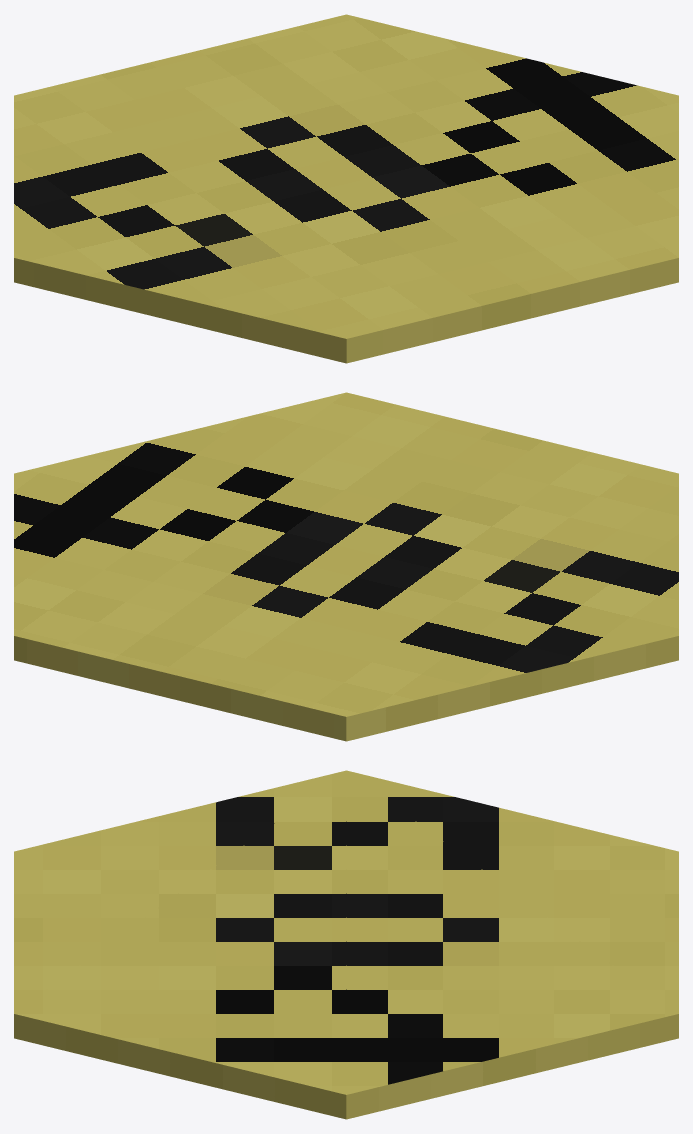
The model's file is 50cent.fbx.
3 renders of one model, top to bottom at view 1: azimuth 30°, elevation 25°; view 2: azimuth 150°, elevation 25°; view 3: azimuth 270°, elevation 25°, orthographic.
Visible parts, largest first — view 1: ,5; view 2: ,5; view 3: ,5.
Part boxes in pixels (left/top/right/bottom): ,5: left=14, top=14, right=678, bottom=363; ,5: left=14, top=392, right=678, bottom=741; ,5: left=14, top=770, right=678, bottom=1119.
Size of the model in its own units: 6.52 by 0.2301 by 5.64.
